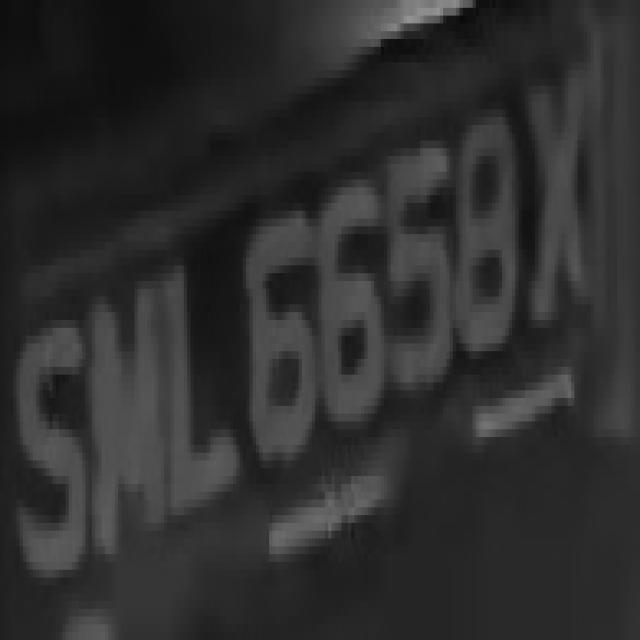5: (374, 140, 453, 430)
6: (236, 195, 322, 476), (318, 156, 391, 468)
8: (449, 94, 518, 382)
L: (151, 226, 236, 554)
M: (82, 273, 158, 562)
S: (7, 273, 88, 609)
X: (515, 54, 591, 336)
